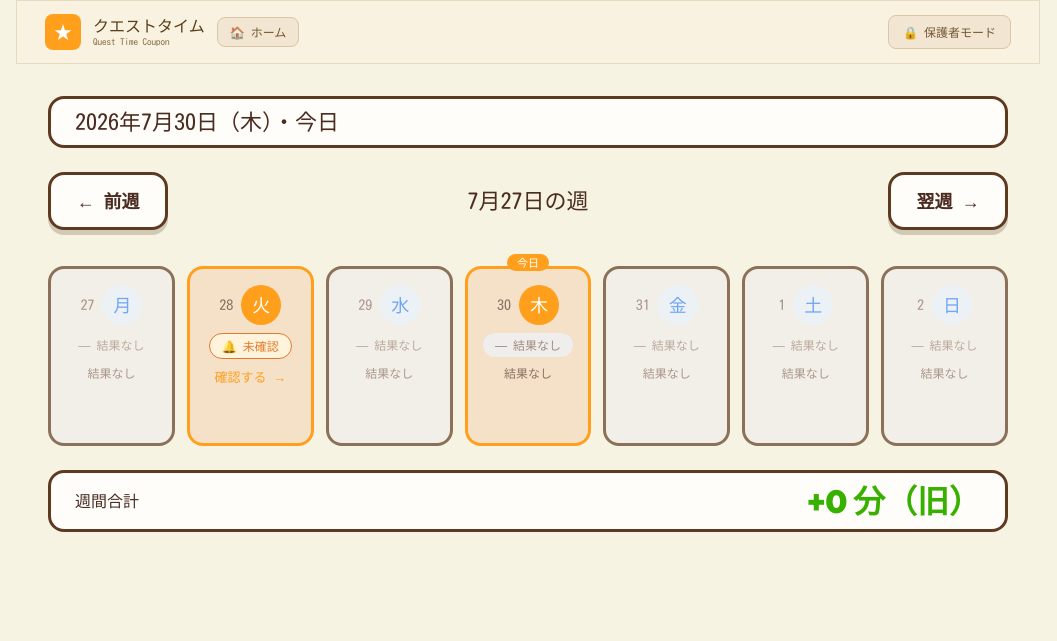
Scenario: ResultsPage reasonCode › unregistered は未登録理由文を表示する
Click the button with test id "results-day-2026-07-28": coordinates (250, 356) [187,266,314,446]
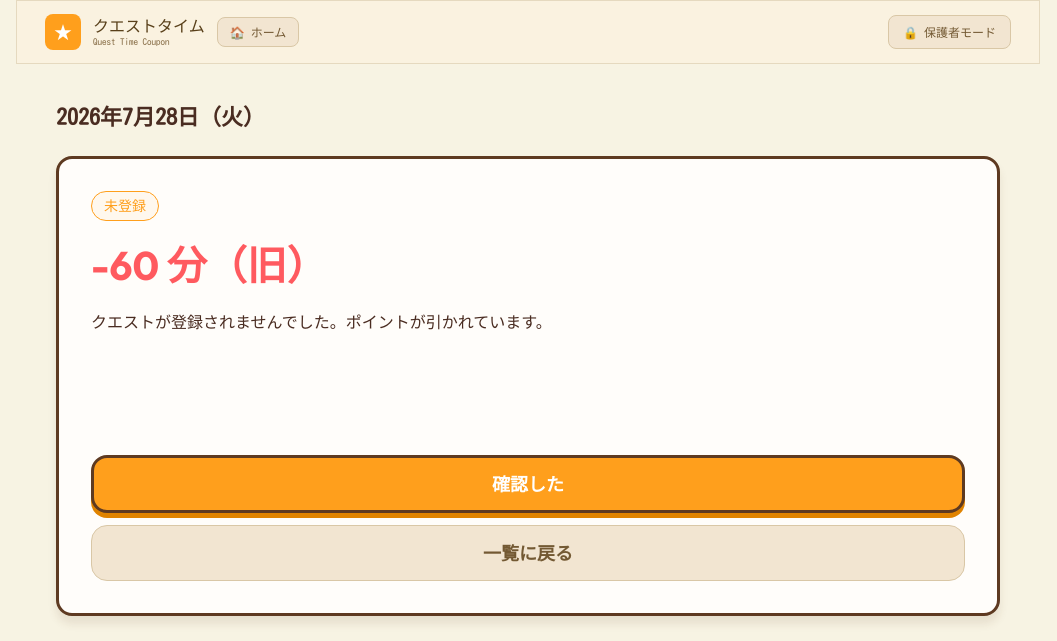
Check: the text with test id "reason-code-message" shows "クエストが登録されませんでした", box [91,314,552,330]
Check: the text with test id "reason-code-message" shows "ポイントが引かれています", box [91,314,552,330]
Check: the text with test id "results-detail-badge" reads "未登録", box [104,198,146,212]
